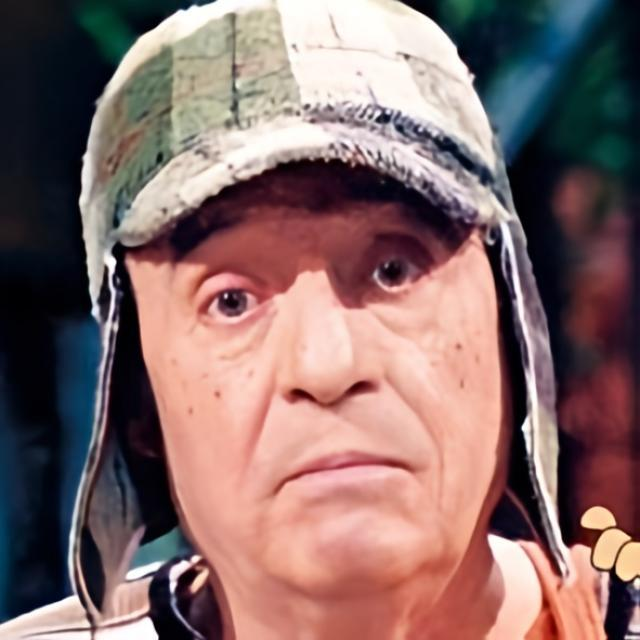sad: (124, 156, 514, 603)
